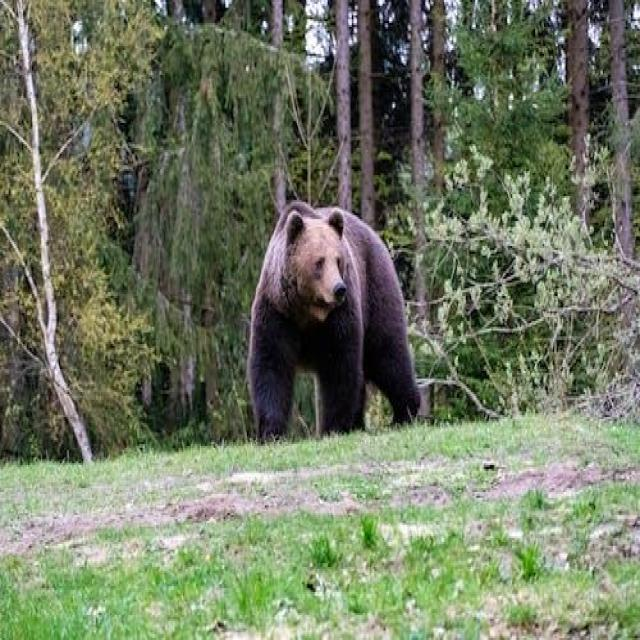Bear: (246, 200, 425, 442)
